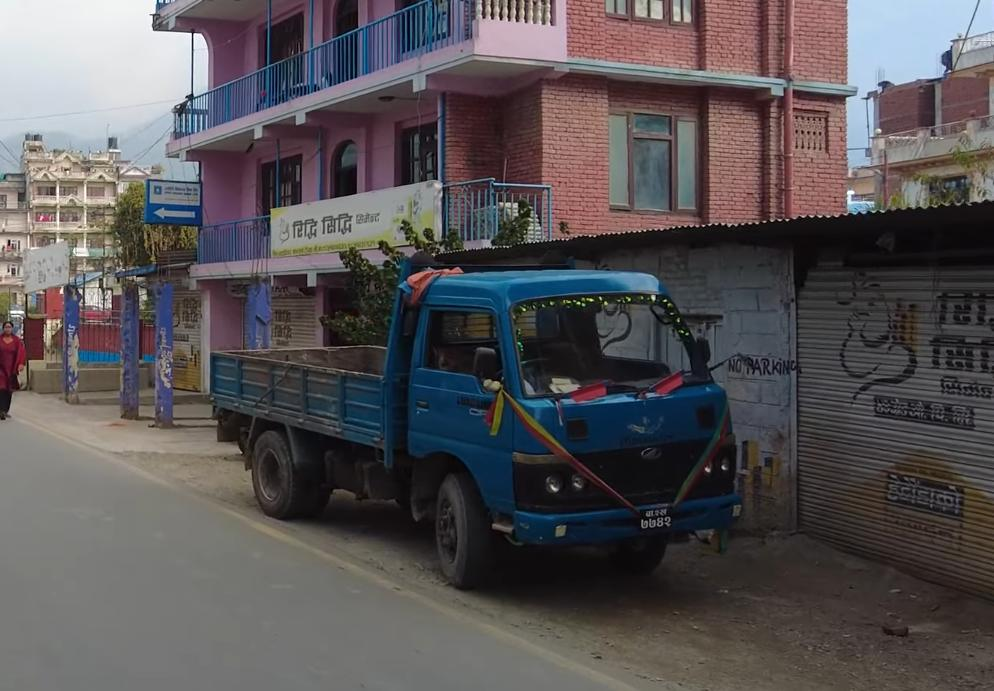mini_truck: (197, 261, 759, 598)
